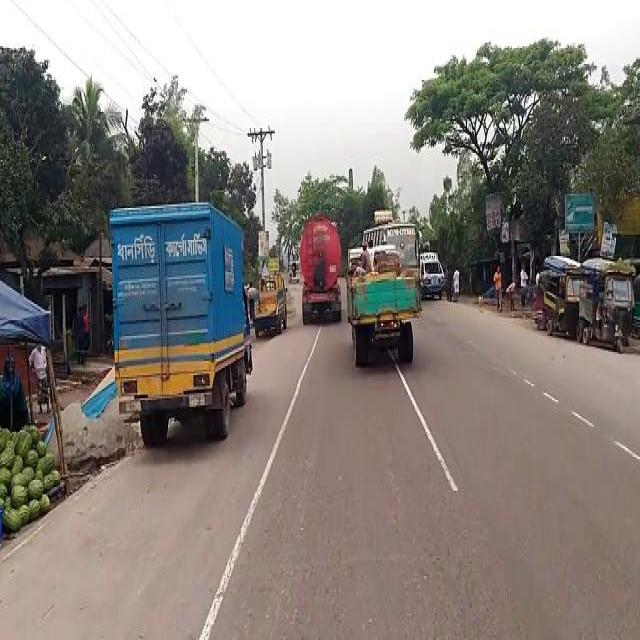11: (252, 274, 288, 338)
17: (577, 259, 635, 349), (540, 253, 580, 337), (531, 273, 545, 328)
18: (107, 202, 253, 438), (346, 252, 420, 360), (298, 214, 340, 319)
7: (421, 249, 447, 302), (286, 258, 300, 282)
Truck: (361, 224, 423, 245)
